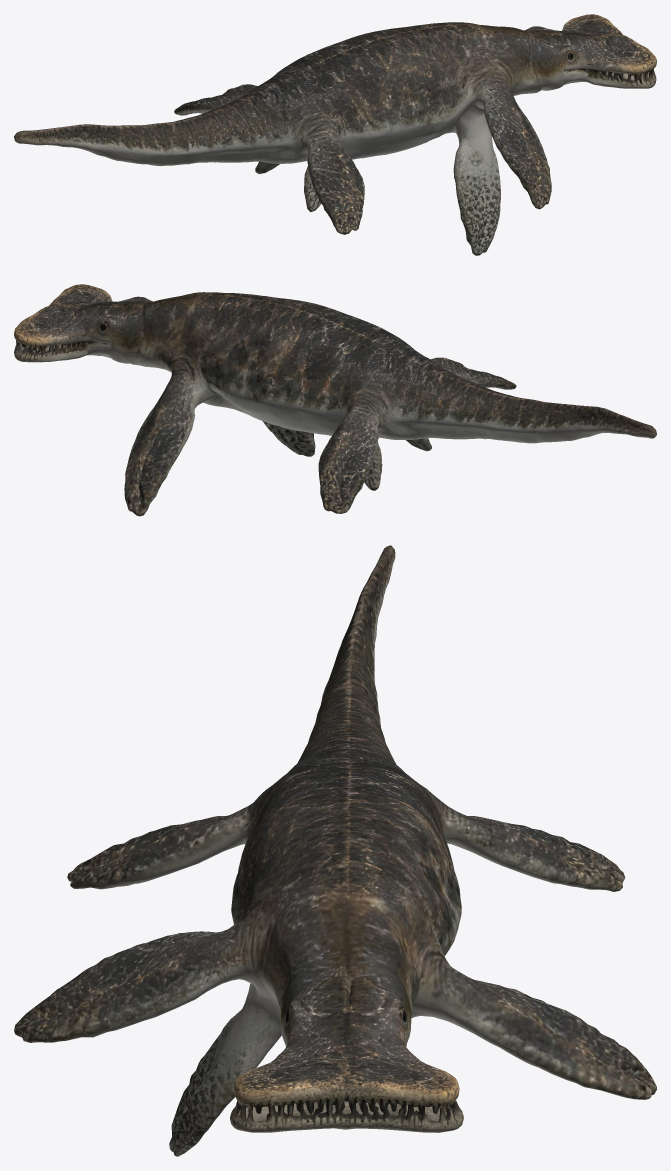
File: atopodentatus.preview.glb
The picture shows the model from 3 angles, top to bottom: view 1: azimuth 30°, elevation 25°; view 2: azimuth 150°, elevation 25°; view 3: azimuth 270°, elevation 25°; orthographic projection. The views are drawn at different scales.
Visible parts, largest first — view 1: tripo_node_c8b7e07d-3dfe-4b69-a4f9-2c2be73c77bb.001; view 2: tripo_node_c8b7e07d-3dfe-4b69-a4f9-2c2be73c77bb.001; view 3: tripo_node_c8b7e07d-3dfe-4b69-a4f9-2c2be73c77bb.001.
Part boxes in pixels (x1,y1,x2,y2): tripo_node_c8b7e07d-3dfe-4b69-a4f9-2c2be73c77bb.001: (14,14,656,255); tripo_node_c8b7e07d-3dfe-4b69-a4f9-2c2be73c77bb.001: (14,284,656,516); tripo_node_c8b7e07d-3dfe-4b69-a4f9-2c2be73c77bb.001: (14,545,656,1156).
Bounding box in the file's own units: 1 × 0.3019 × 0.5572.
Materials: 1 (1 with a texture image).
